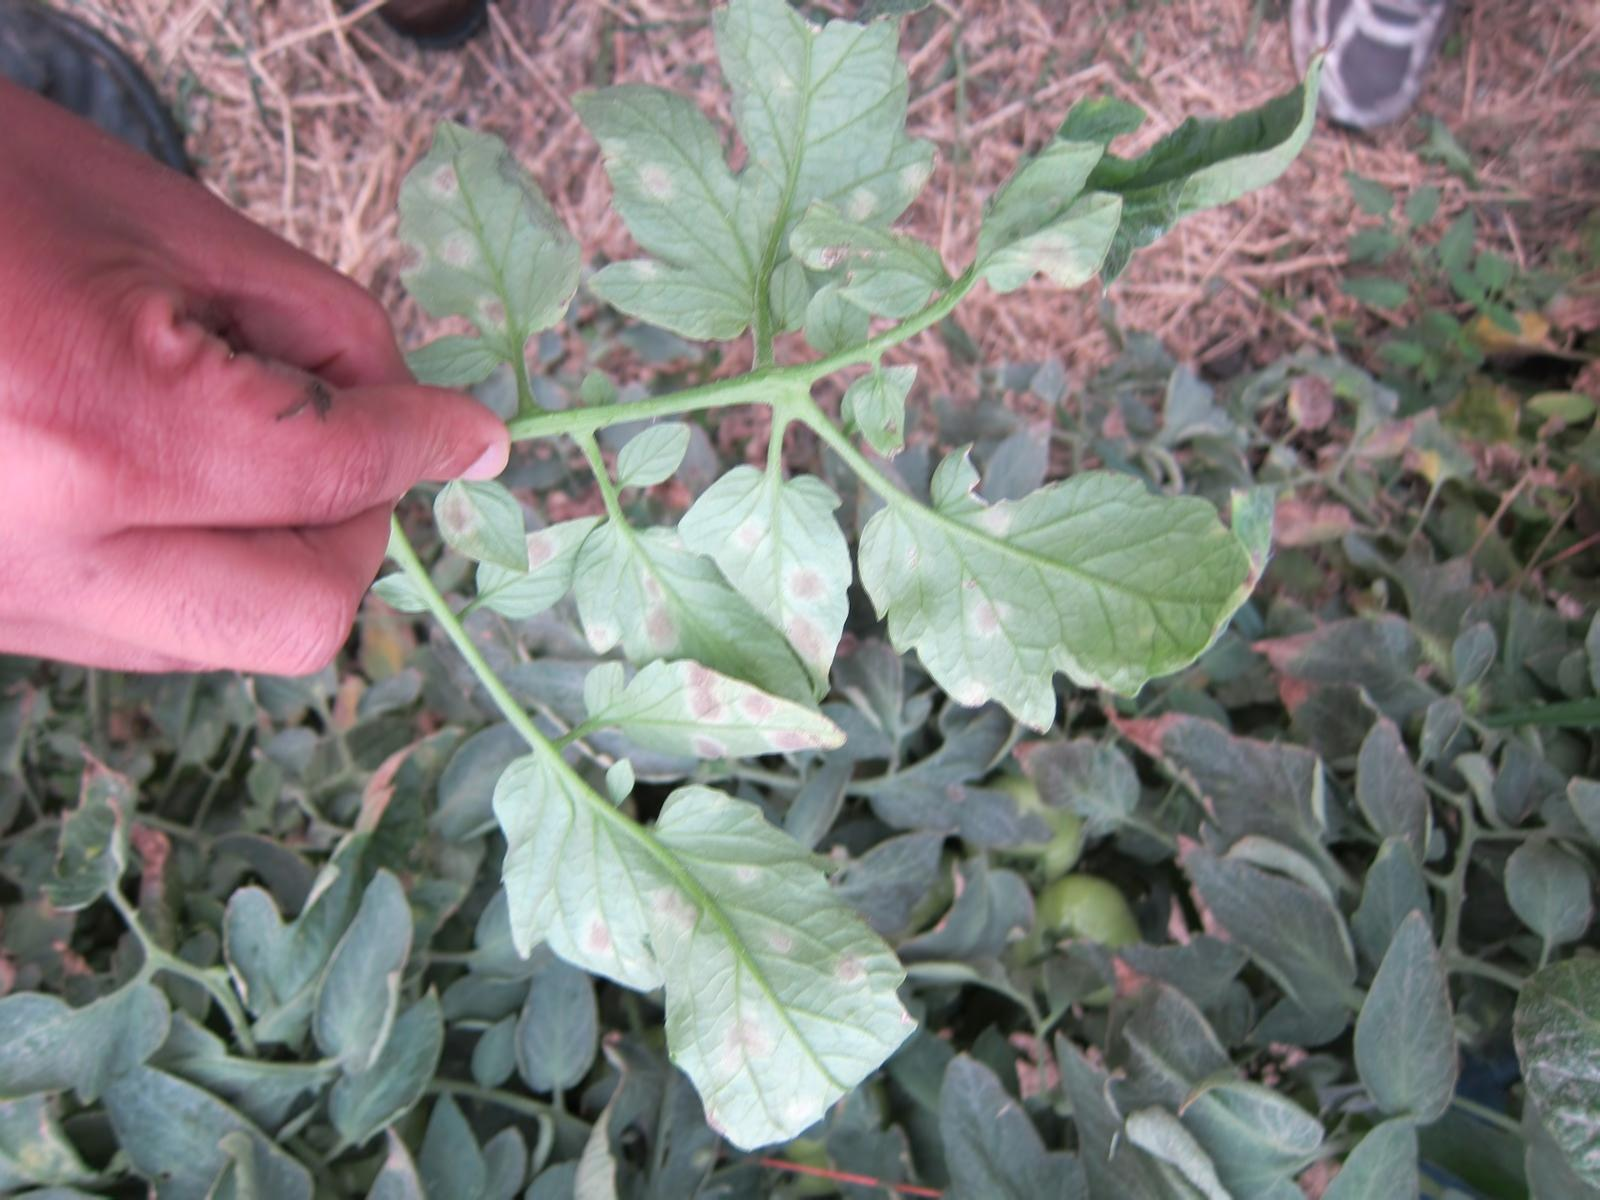Tomato mold leaf: (505, 746, 923, 1167), (857, 458, 1335, 735), (574, 18, 927, 337), (976, 54, 1362, 303), (569, 509, 824, 727), (393, 113, 593, 386), (664, 458, 866, 707), (558, 664, 860, 792), (797, 194, 957, 328), (428, 478, 552, 599)
